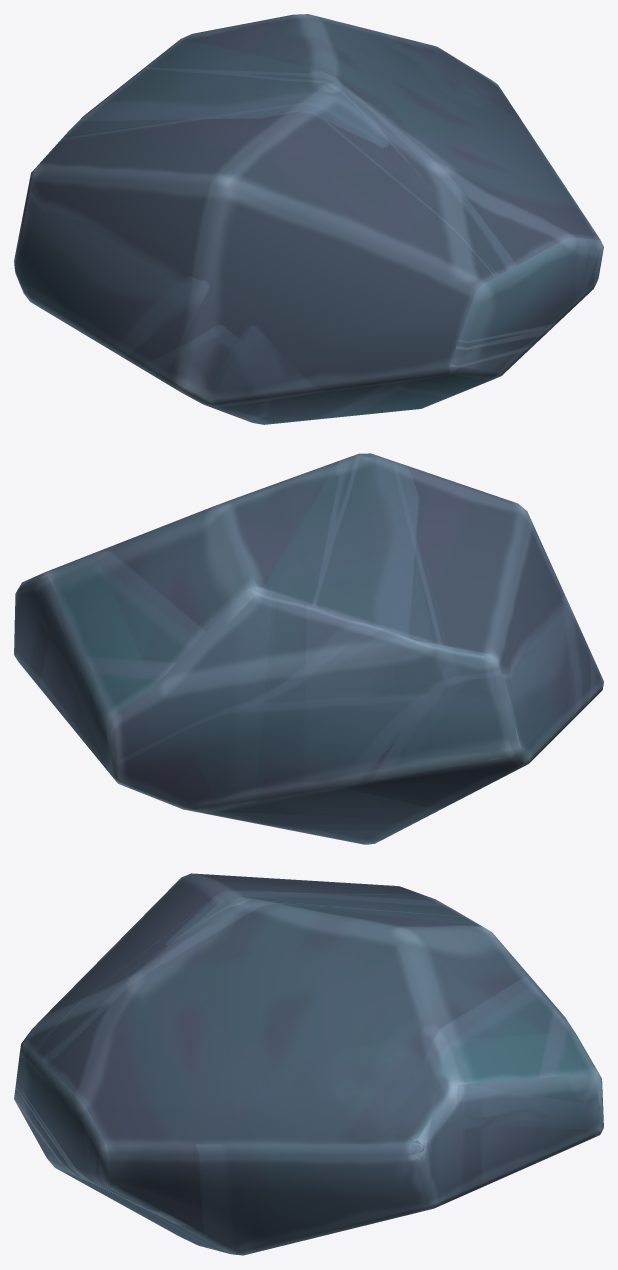
Rendered from rock-basic.glb.
3 views of the same model, one above another, from view 1: azimuth 30°, elevation 25°; view 2: azimuth 150°, elevation 25°; view 3: azimuth 270°, elevation 25° (orthographic). The views are drawn at different scales.
Visible parts, largest first — view 1: Sphere; view 2: Sphere; view 3: Sphere.
Boxes of the visible parts, x1,y1,x2,y2 form: Sphere: [14, 14, 603, 424]; Sphere: [14, 453, 603, 844]; Sphere: [14, 873, 603, 1255].
Size of what is drawn, in the model's own units: 2.37 by 1.48 by 2.5.
Materials: 1 (1 with a texture image).
